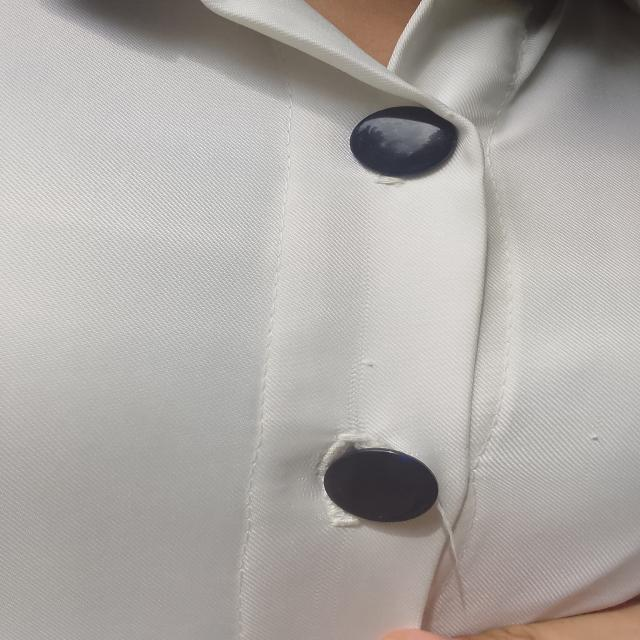education_female_uniform: (201, 81, 600, 552)
